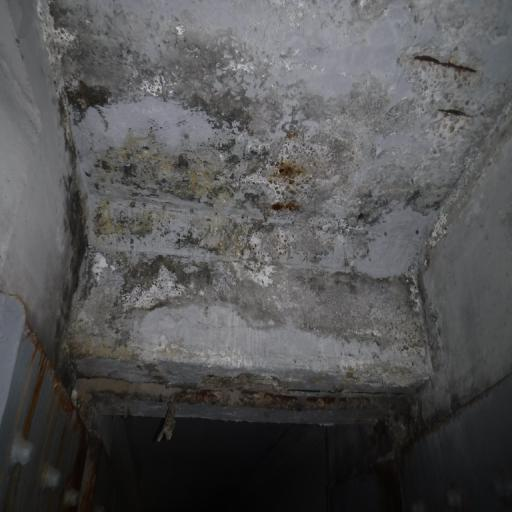exposed_rebar: (414, 55, 476, 73), (439, 108, 472, 117)
